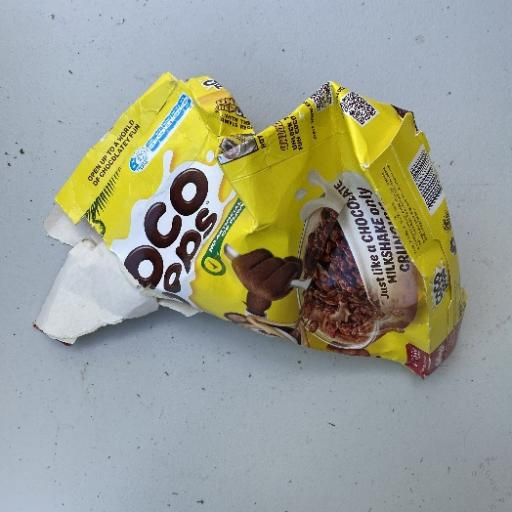Cardboard: (36, 71, 468, 380)
